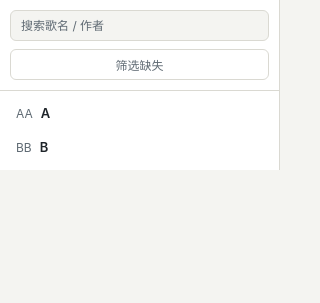
Test case: SongList — 缺失筛选面板 › 打开面板默认全选，扫描完成后展示命中列表、badge 和错误数量
The image size is (320, 303).
Click the button with class "missing-filter-btn" at (140, 64), box x1=10 y1=49 x2=269 y2=80
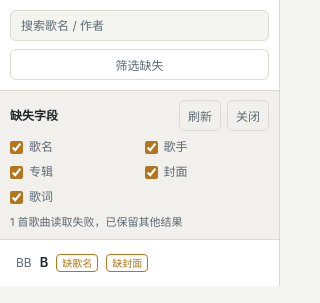
Expected: the number of checkboxes is 5, x1=10 y1=140 x2=23 y2=154; x1=144 y1=140 x2=158 y2=154; x1=10 y1=166 x2=23 y2=178; x1=144 y1=166 x2=158 y2=178; x1=10 y1=190 x2=23 y2=204
Expected: the number of list items with class "song-row" is 1, x1=16 y1=254 x2=148 y2=272
Expected: the text "缺歌名" is shown, x1=56 y1=254 x2=98 y2=272
